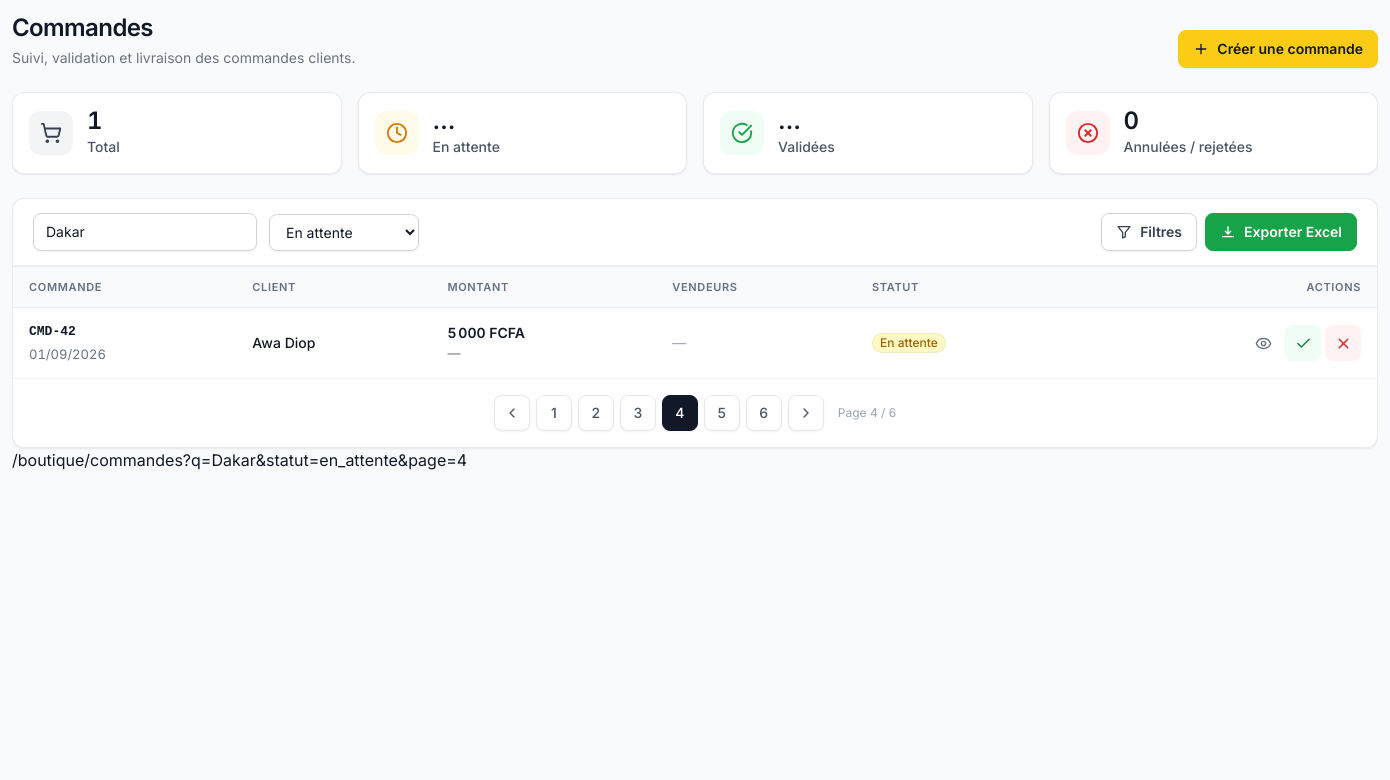
Scenario: Commandes : navigation Retour et contexte de liste › liste filtrée page 4 → détail → Retour : liste restituée à l’identique
expect the text "CMD-42" is shown: met, box [29,324,76,339]
What coordinates should you click on to do the following:
click the button named "Voir la commande"
I would click on:
 (1263, 343)
Its box is [1245,325,1281,361].
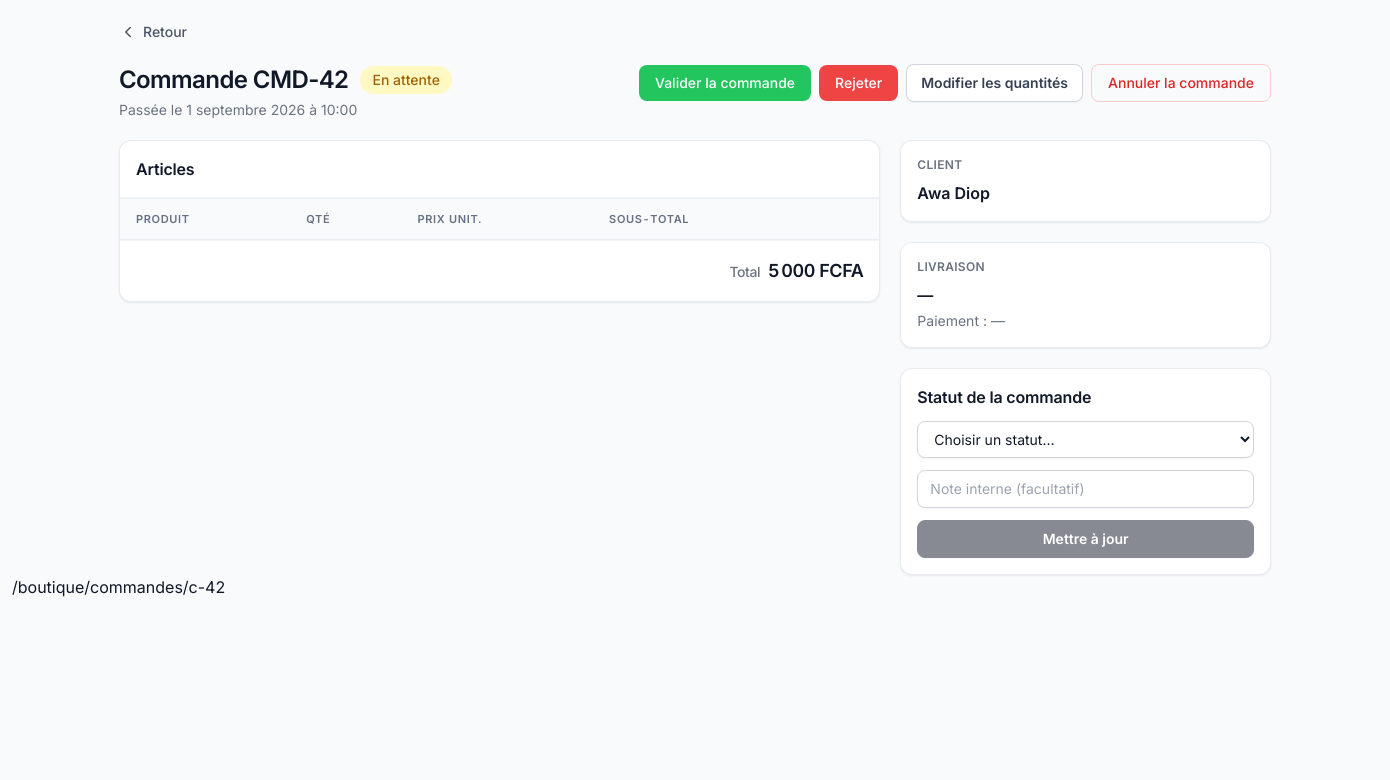
expect the heading "Commande CMD-42" is shown: met, box [119,64,348,96]
What coordinates should you click on to do the following:
click the button "Retour"
I would click on:
 (153, 32)
Its box is [113,12,193,52].
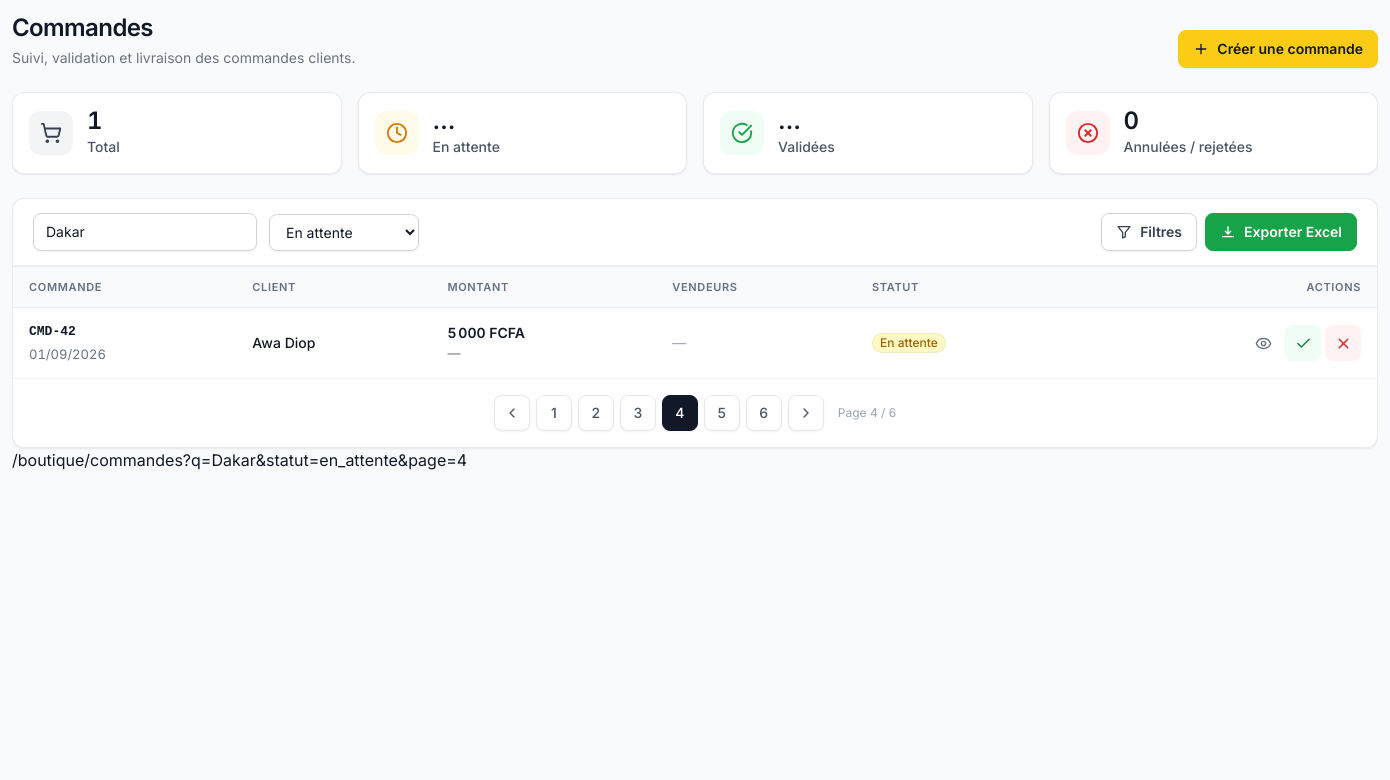
expect the text with test id "adresse" reads "/boutique/commandes?q=Dakar&statut=en_attente&page=4": met, box [12,450,467,470]
expect the field named "Rechercher une commande" holds "Dakar": met, box [33,213,257,251]
expect the dropdown named "Filtrer par statut" shows "En attente": met, box [269,214,419,250]
